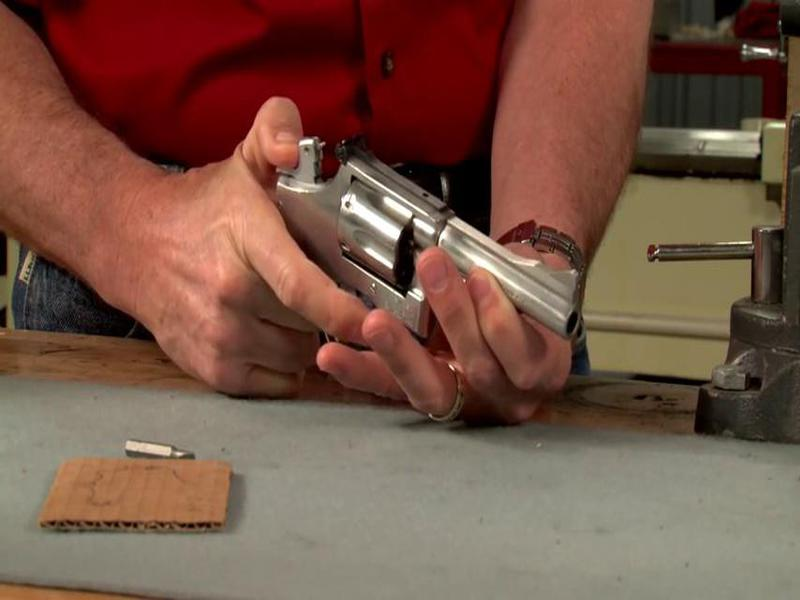Revolver: (240, 114, 611, 417)
